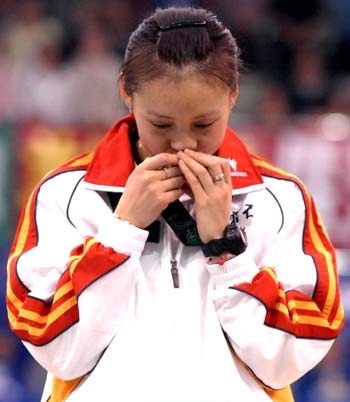face: (133, 67, 229, 182)
